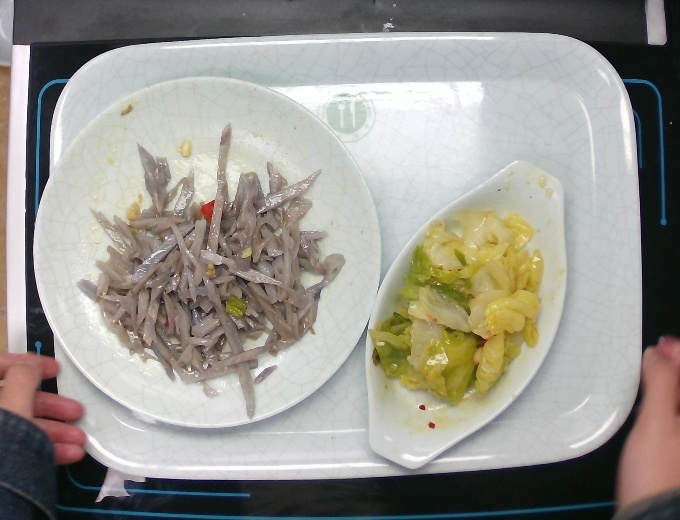JYsf-Da_Yuan_Pan: (33, 76, 383, 432)
JYsf-Yu_Pan: (358, 156, 573, 475)
